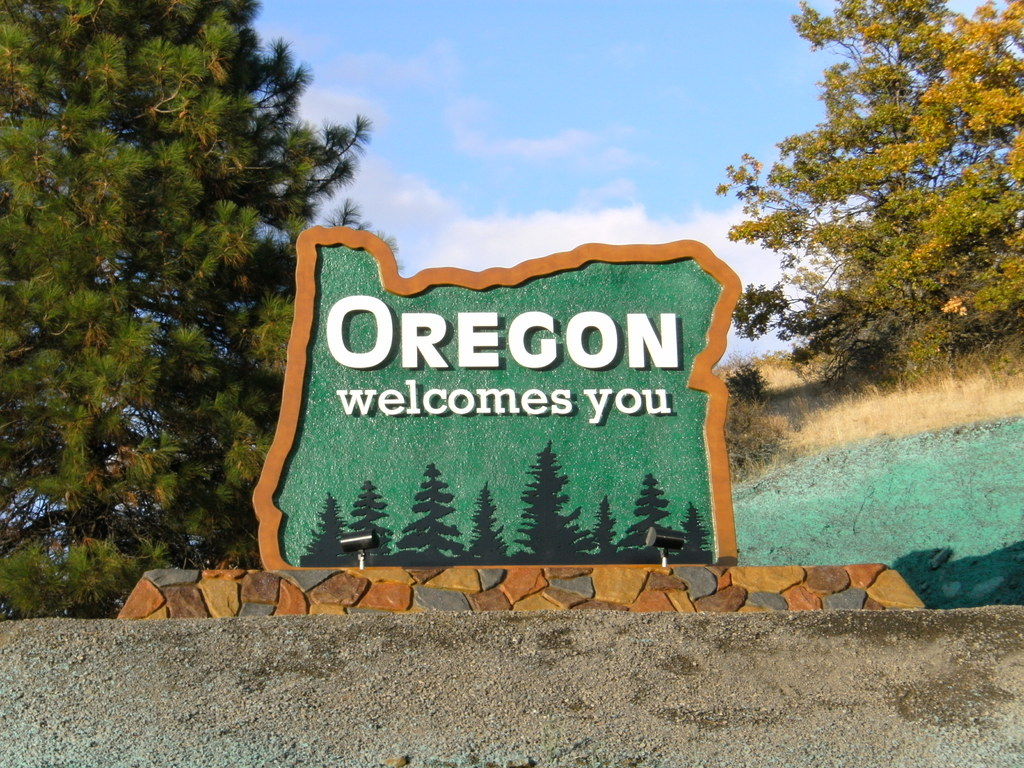Tree: (14, 33, 303, 606), (714, 0, 1023, 394), (506, 439, 595, 562), (394, 459, 465, 561), (620, 465, 681, 546), (298, 487, 353, 571), (465, 476, 511, 557), (340, 479, 384, 561), (586, 492, 618, 558), (676, 501, 712, 558)
